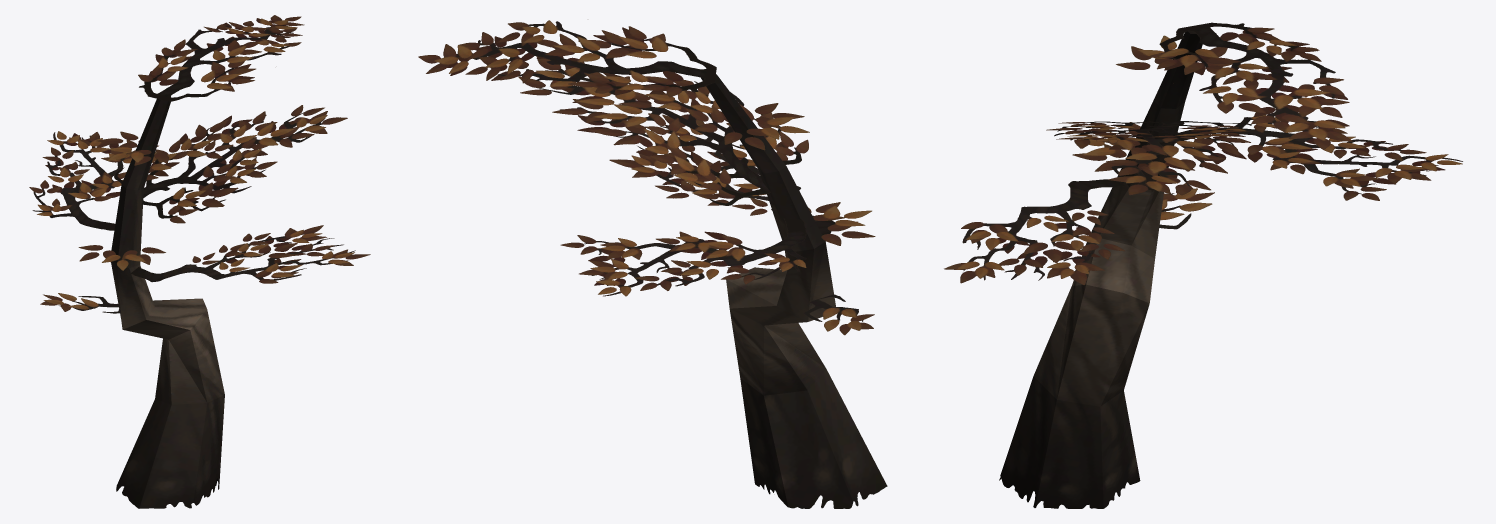
Rendered from cherrytree_dead_small_03.fbx.
3 renders of one model, left to right at view 1: azimuth 30°, elevation 25°; view 2: azimuth 150°, elevation 25°; view 3: azimuth 270°, elevation 25°, orthographic. The views are drawn at different scales.
Parts seen in each view (by area): view 1: obj1.072; view 2: obj1.072; view 3: obj1.072.
Part boxes in pixels (box(x1,y1,x2,y2)): obj1.072: box(29, 15, 370, 508); obj1.072: box(418, 20, 887, 508); obj1.072: box(944, 22, 1462, 508).
Size of the model in its own units: 4.57 by 4.79 by 4.7.
